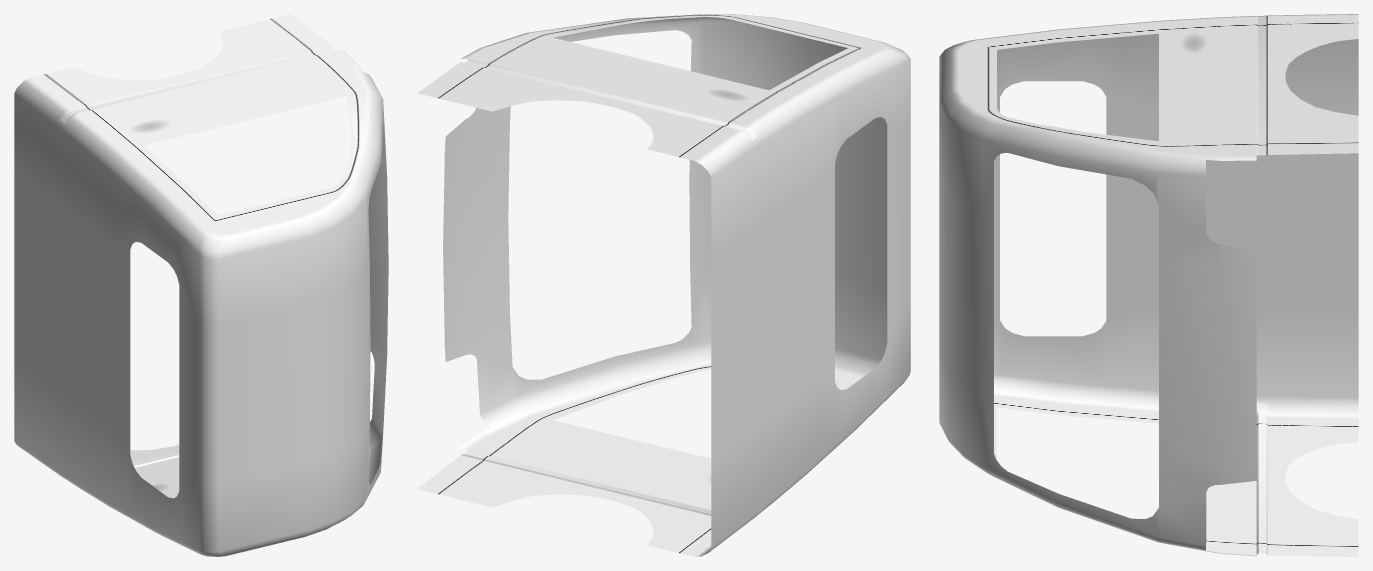
The model's file is body.obj.
The picture shows the model from 3 angles, left to right: view 1: azimuth 30°, elevation 25°; view 2: azimuth 150°, elevation 25°; view 3: azimuth 270°, elevation 25°; orthographic projection. The views are drawn at different scales.
Parts seen in each view (by area): view 1: baked; view 2: baked; view 3: baked.
Boxes of the visible parts, left/top/right/bottom form: baked: left=14, top=14, right=388, bottom=556; baked: left=417, top=14, right=910, bottom=556; baked: left=939, top=14, right=1358, bottom=556.
Size of the model in its own units: 1.25 by 1.48 by 1.4.
Materials: 1 (1 with a texture image).
